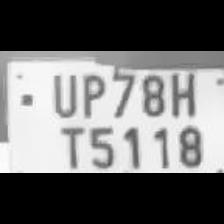1: (117, 121, 145, 169), (145, 121, 173, 169)
5: (84, 123, 116, 171)
7: (105, 68, 136, 120)
8: (173, 121, 205, 169), (138, 68, 167, 120)
H: (165, 67, 199, 119)
P: (76, 68, 108, 120)
T: (51, 122, 85, 170)
U: (47, 68, 79, 120)
